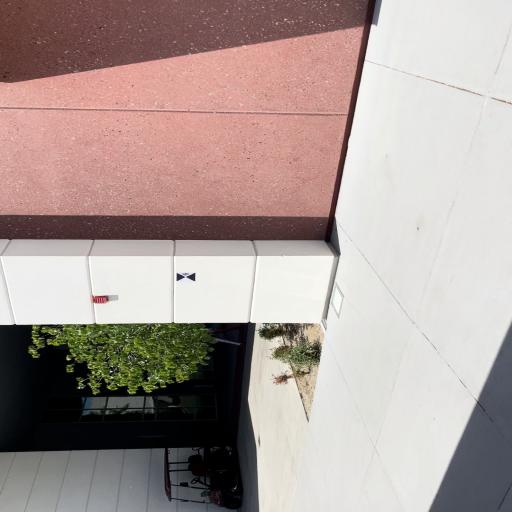target6: (177, 272, 197, 282)
